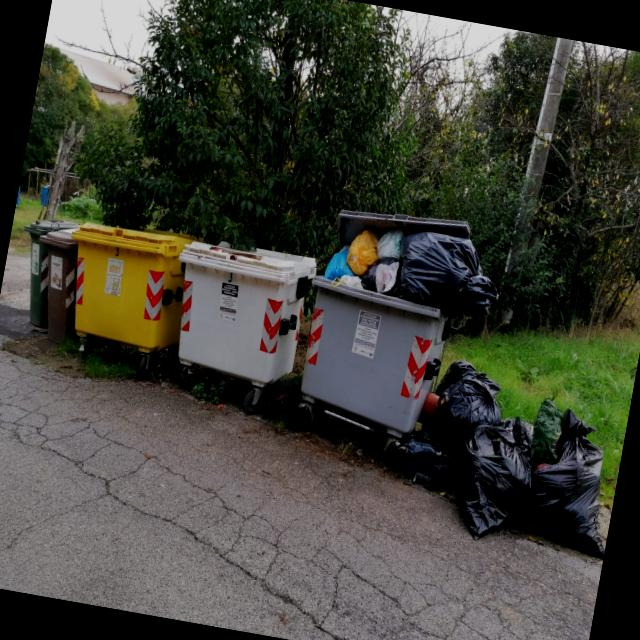garbage: (0, 131, 640, 547)
